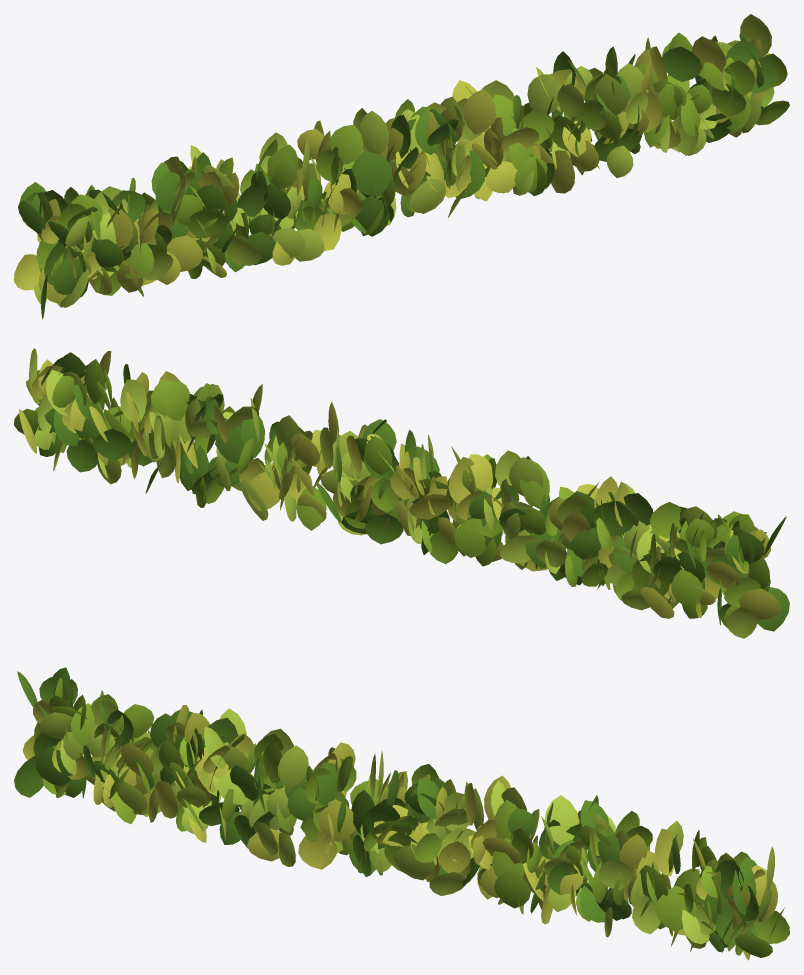
File: IvyLintel.fbx
3 views of the same model, one above another, from view 1: azimuth 30°, elevation 25°; view 2: azimuth 150°, elevation 25°; view 3: azimuth 330°, elevation 25° (orthographic).
Visible parts, largest first — view 1: Soft lintel foliage; view 2: Soft lintel foliage; view 3: Soft lintel foliage.
Part boxes in pixels (bbox=[...]): Soft lintel foliage: bbox=[14, 14, 789, 319]; Soft lintel foliage: bbox=[14, 348, 789, 638]; Soft lintel foliage: bbox=[14, 667, 789, 960].
Size of the model in its own units: 4.18 by 0.6526 by 0.4327.
